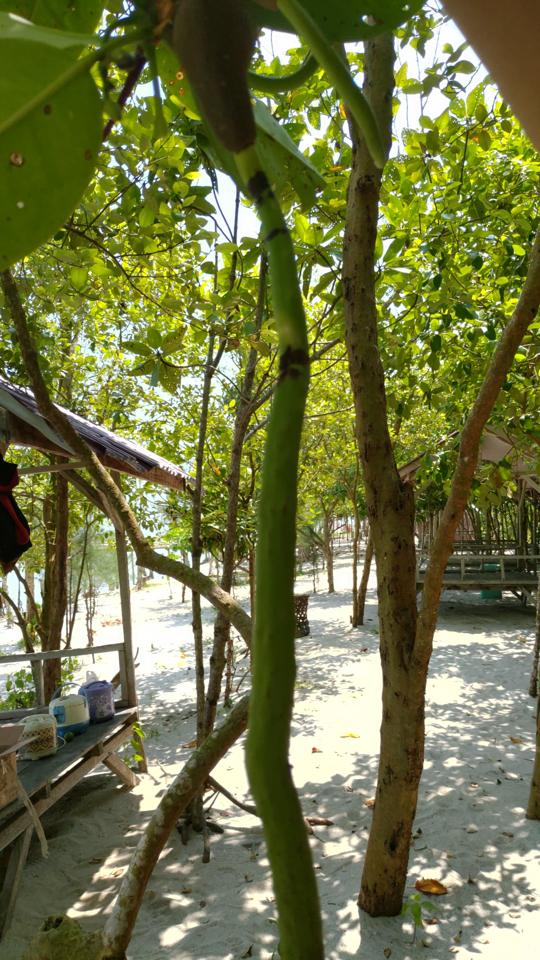setengah matang: (148, 1, 342, 956)
